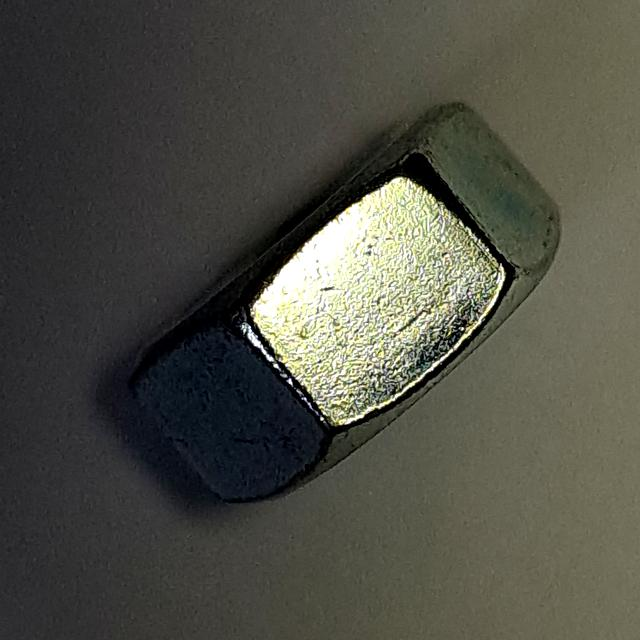Side_Excellent: (115, 94, 570, 514)
